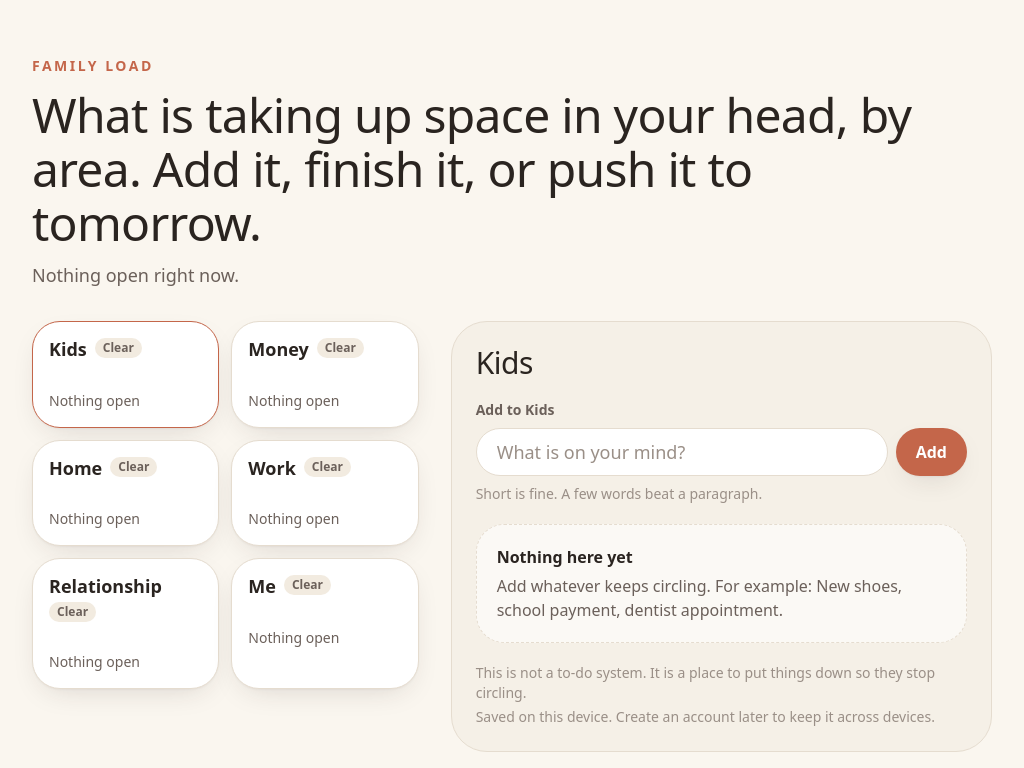
Scenario: Family Load › moves an item to another category
expect the text "Nothing here yet" is shown: met, box [497, 546, 633, 568]
Type "Electricity bill" into the field at (682, 452), box [476, 428, 888, 476]
Then press Enter
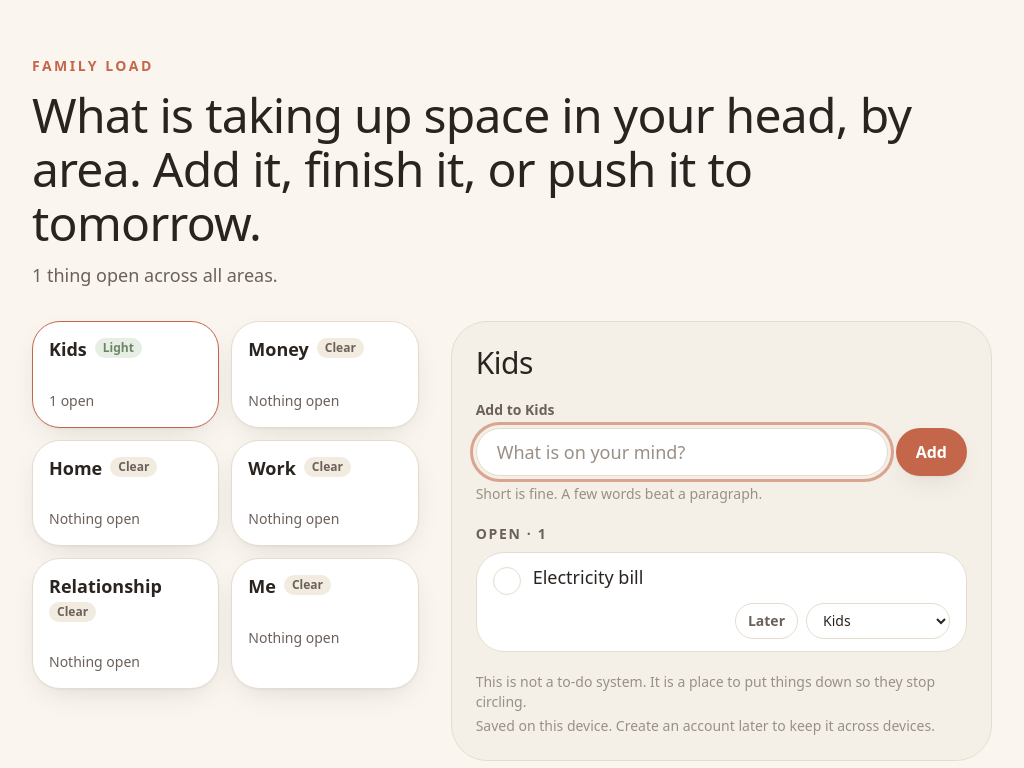
Select "Money" in the dropdown named "Move to" at (878, 621), box [806, 603, 950, 639]
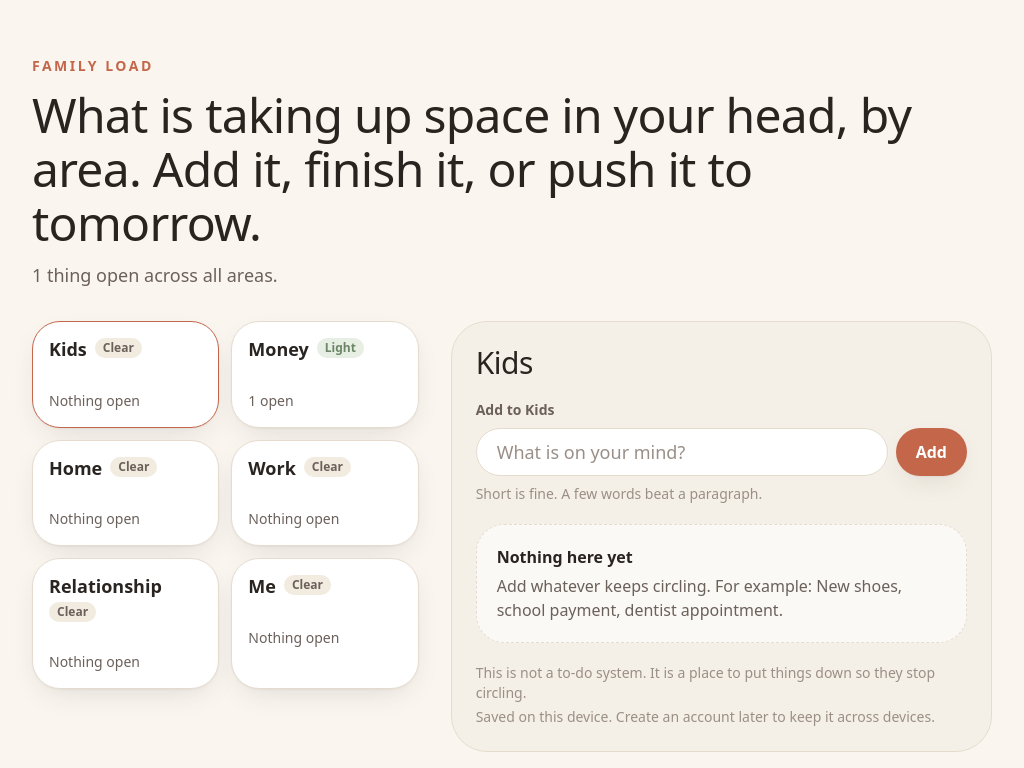
expect the text "Electricity bill" is gone: met
Click the button "Money Light 1 open" at (325, 375), box [231, 321, 419, 428]
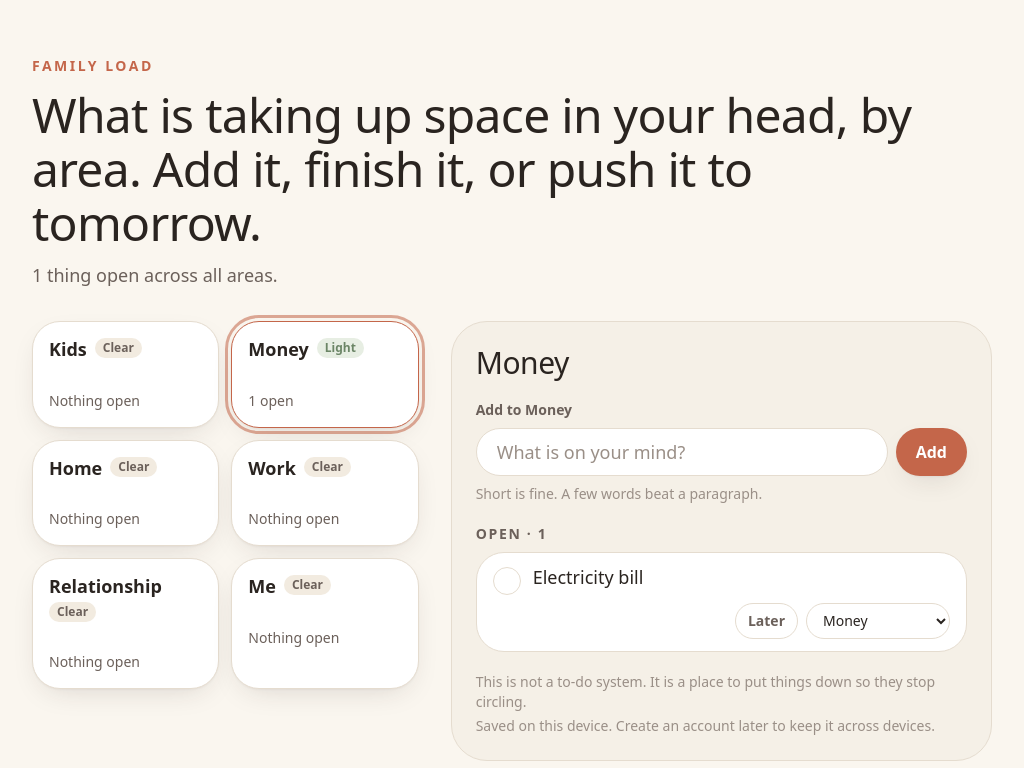
expect the text "Electricity bill" is shown: met, box [533, 565, 643, 589]
expect the heading "Money" is shown: met, box [476, 342, 569, 383]
